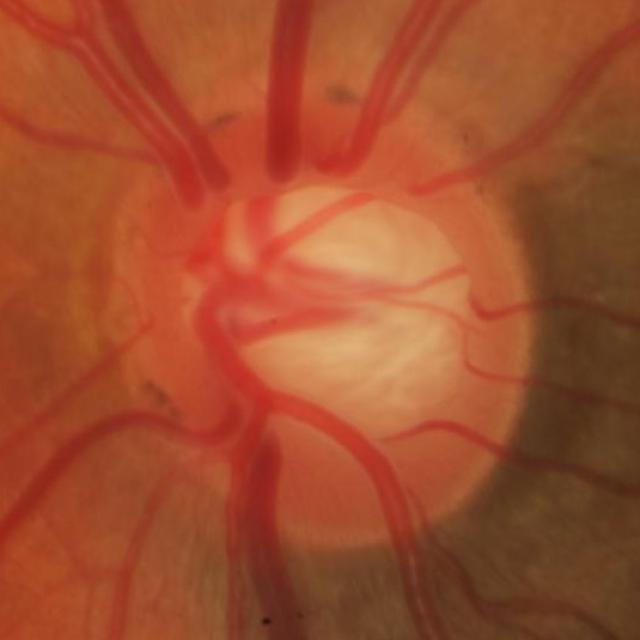OC: (180, 184, 474, 414)
OD: (129, 110, 534, 548)
